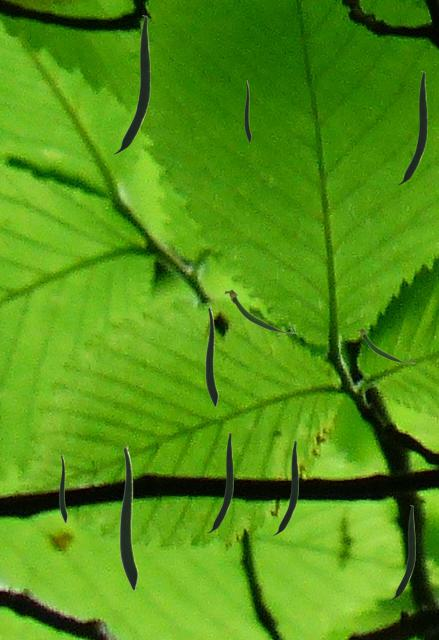french_bean: (112, 15, 149, 153), (396, 71, 426, 184), (223, 288, 295, 333), (119, 445, 137, 590), (207, 432, 232, 532), (390, 505, 414, 599), (273, 440, 297, 534), (355, 327, 414, 363), (205, 306, 217, 406), (59, 454, 66, 522), (244, 80, 250, 142)
